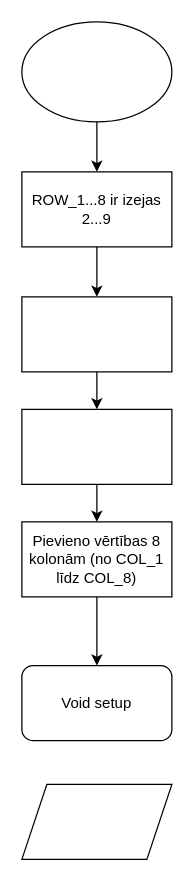
Some shapes in this 194 by 881 pixel diagram are drawn without their labels. Here are the shapes that lost their labels. From the top down, the centre of each, then its label:
the point at 96,334: COL_1...8 ir izejas 10...A3
the point at 96,446: Pievieno vērtības 8 rindām (no ROW_1 līdz ROW_8)
